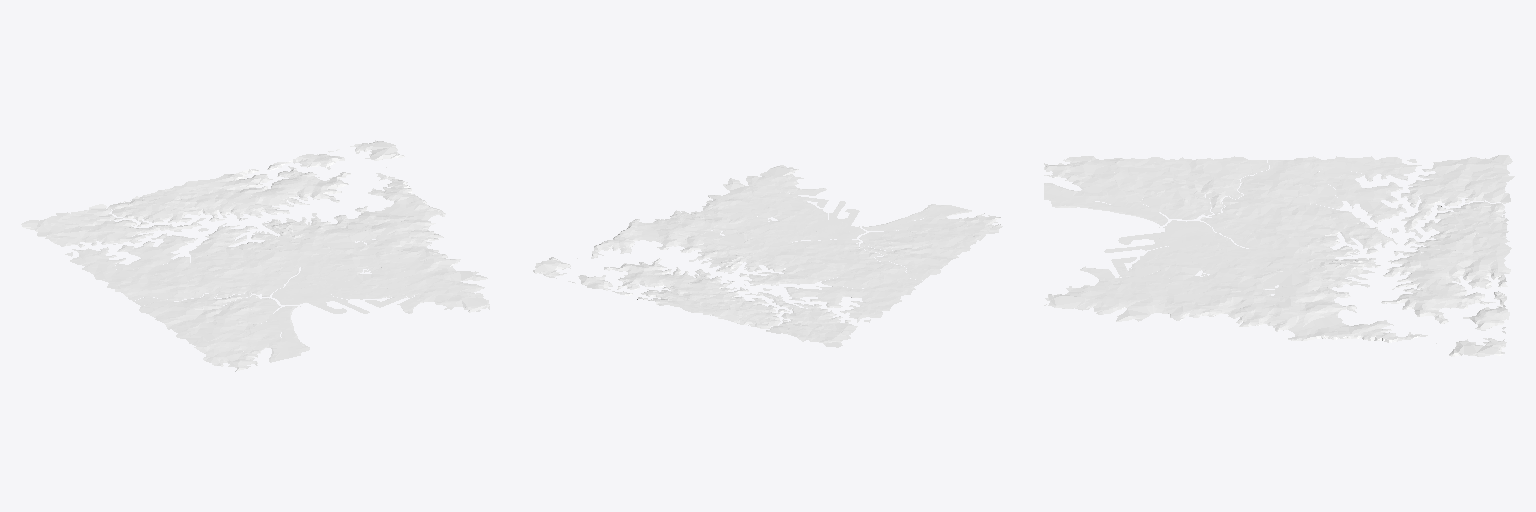
The robot description file, URDF, robot "sydney":
<?xml version="1.0" ?>
<robot name="sydney">
  <link name="sydneyLink">
  <contact>
      <lateral_friction value="1"/>
  </contact>
    <inertial>
      <origin rpy="0 0 0" xyz="0 0 0"/>
       <mass value=".0"/>
       <inertia ixx="0" ixy="0" ixz="0" iyy="0" iyz="0" izz="0"/>
    </inertial>
    <visual>
      <origin rpy="0 0 0 " xyz="0 0 0"/>
      <geometry>
				<mesh filename="sydney.obj" scale="1 1 1"/>
      </geometry>
       <material name="white">
        <color rgba="1 1 1 1"/>
      </material>
    </visual>
    <collision>
      <origin rpy="0 0 0" xyz="0 0 -50"/>
      <geometry>
          <mesh filename="sydney.obj" scale="1 1 1"/>
      </geometry>
    </collision>
  </link>
</robot>

--- Render facts (derived) ---
3 views of the same robot in one strip: view 1: azimuth 30°, elevation 25°; view 2: azimuth 150°, elevation 25°; view 3: azimuth 270°, elevation 25° (orthographic).
Model sydney with 1 links and 0 joints (none), rooted at sydneyLink, posed all joints at 0.
Visible links, largest first — view 1: sydneyLink; view 2: sydneyLink; view 3: sydneyLink.
Link boxes in pixels (<box>): sydneyLink: <box>21,140,489,371</box>; sydneyLink: <box>533,165,1002,347</box>; sydneyLink: <box>1044,155,1514,356</box>.
Bounding box of the posed robot: 23284 × 22833 × 133 m (x, y, z).
Meshes: 1 distinct files referenced, 1 mesh visuals loaded (1 OBJ).
